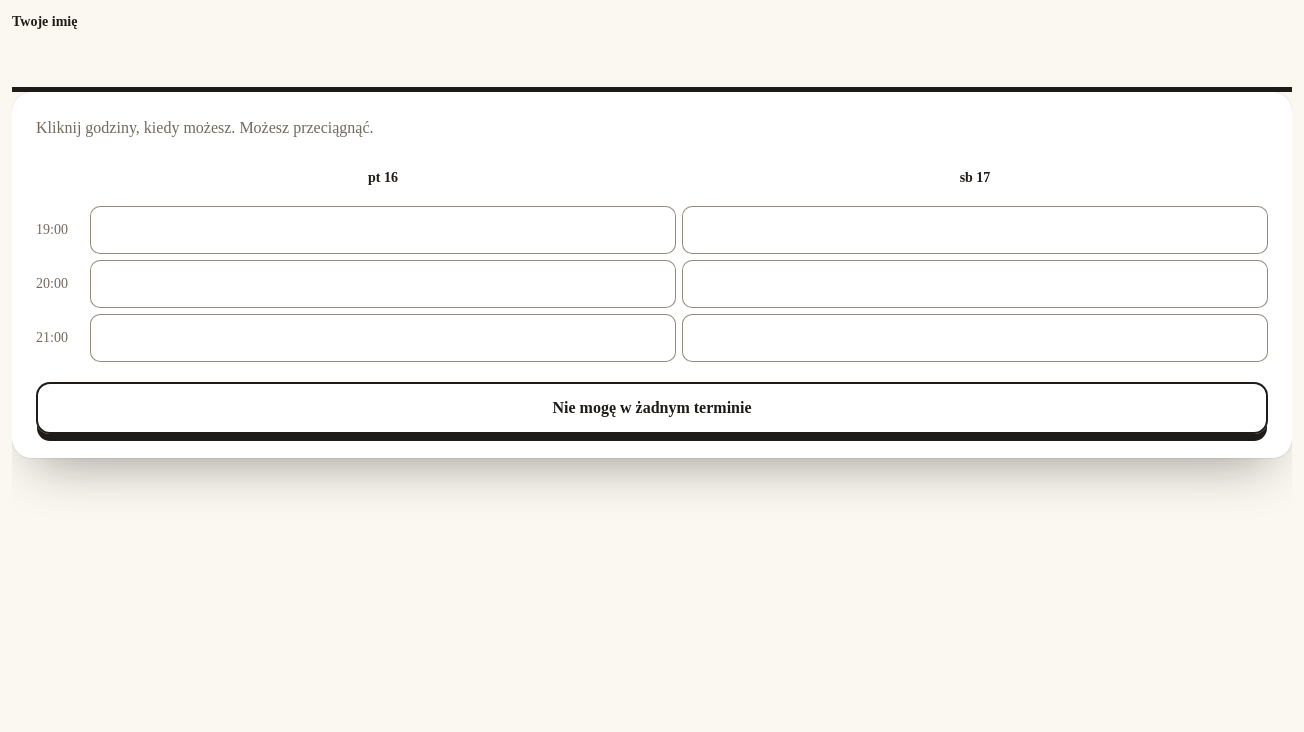
Test case: the Moje lead and body › asks To ty, Ola? with the stored name and takes the row over on Tak, to ja
Type "ola " into the field labelled "Twoje imię". click: (652, 66)
box: [12,40,1292,92]
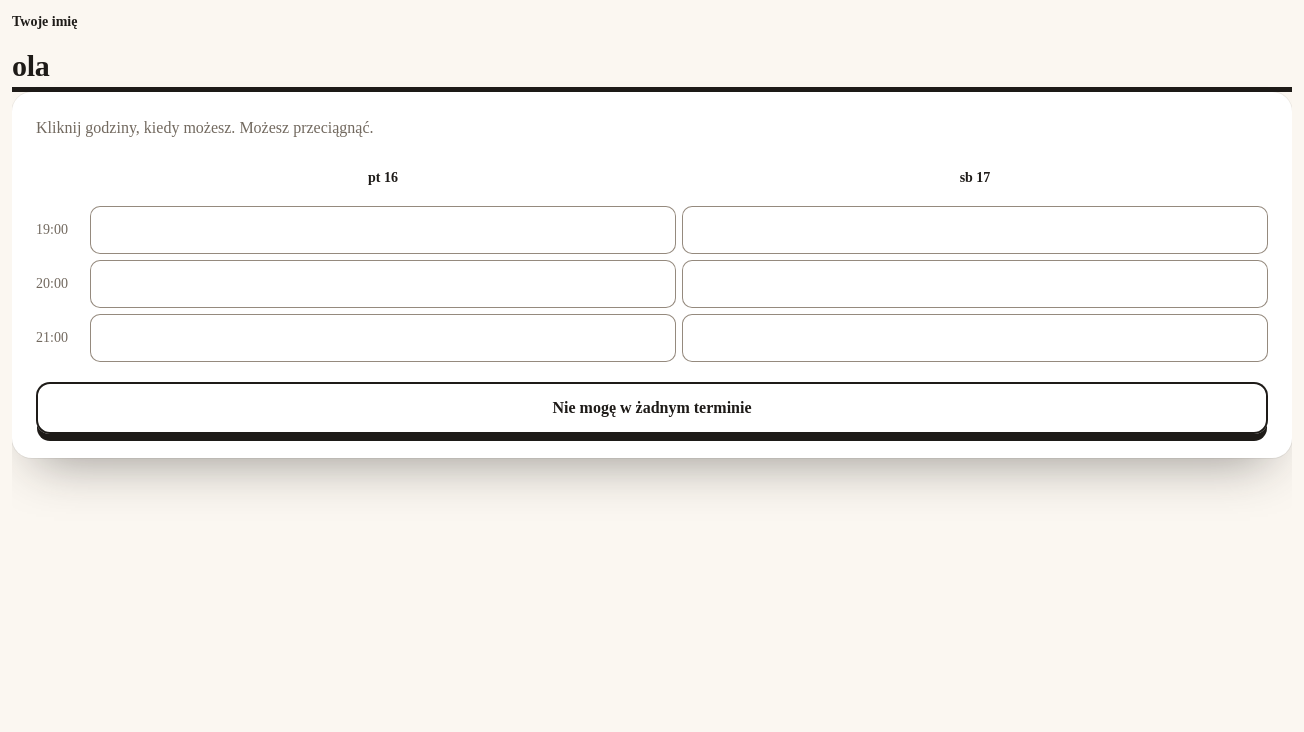
Click the button named "pt 16, 19:00". click: (383, 230)
box: [90,206,676,254]
Wait 500 ms
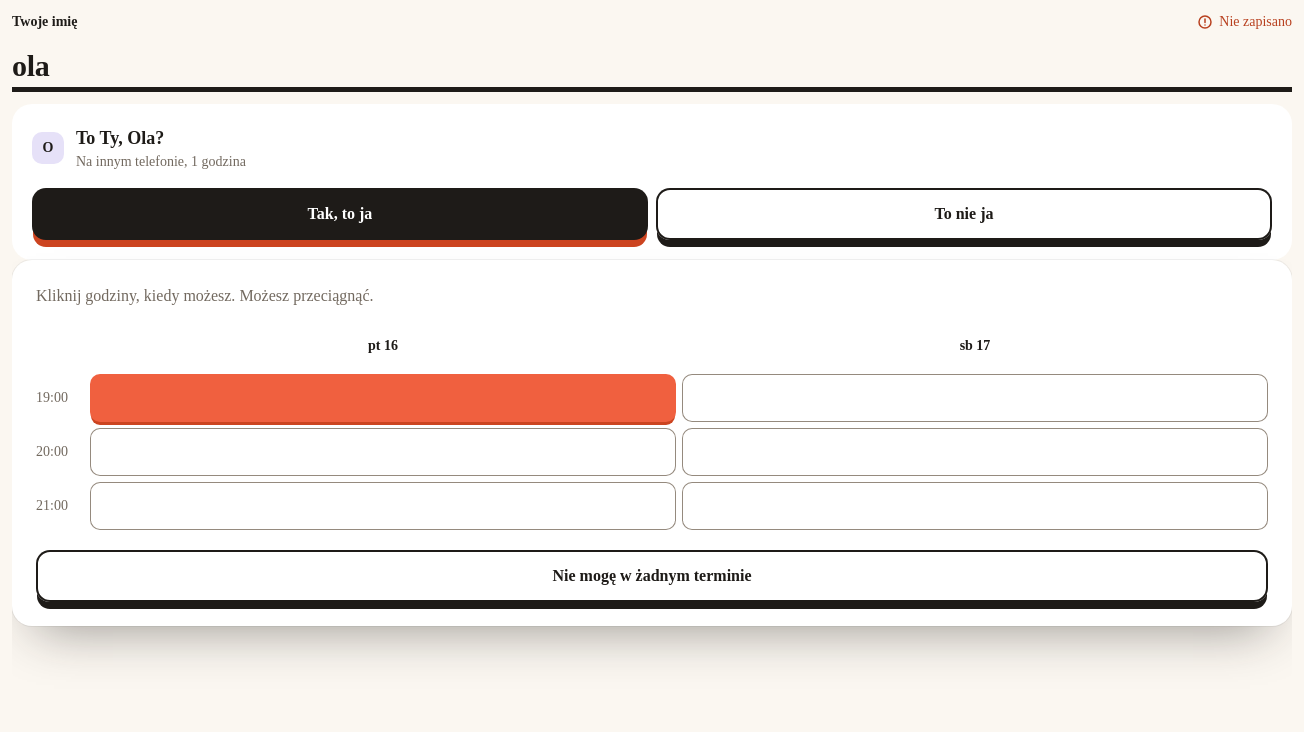
Check: the heading "To Ty, Ola?" is shown, box [76,128,164,148]
Click the button "Tak, to ja". click: (340, 214)
box: [32,188,648,240]
Wait 500 ms
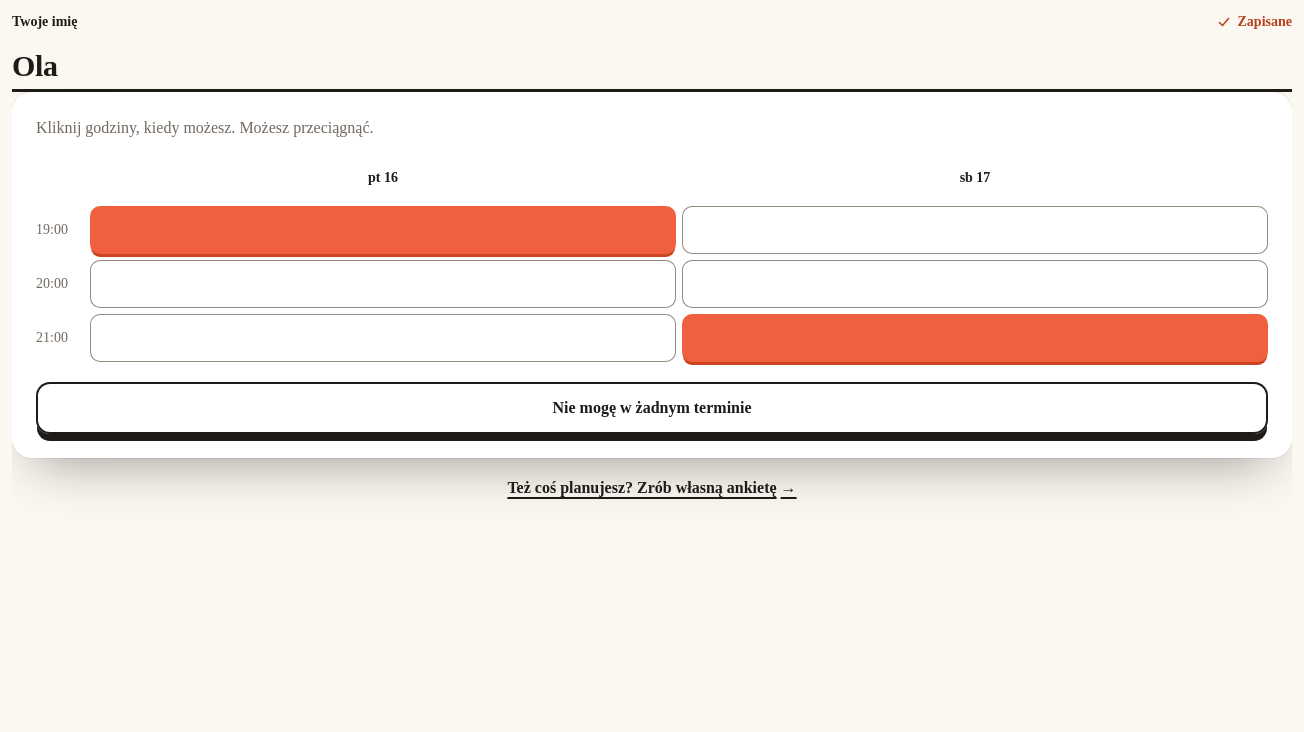
Check: the message reads "Zapisane", box [1238,14,1292,29]
Check: the heading "To Ty, Ola?" is gone
